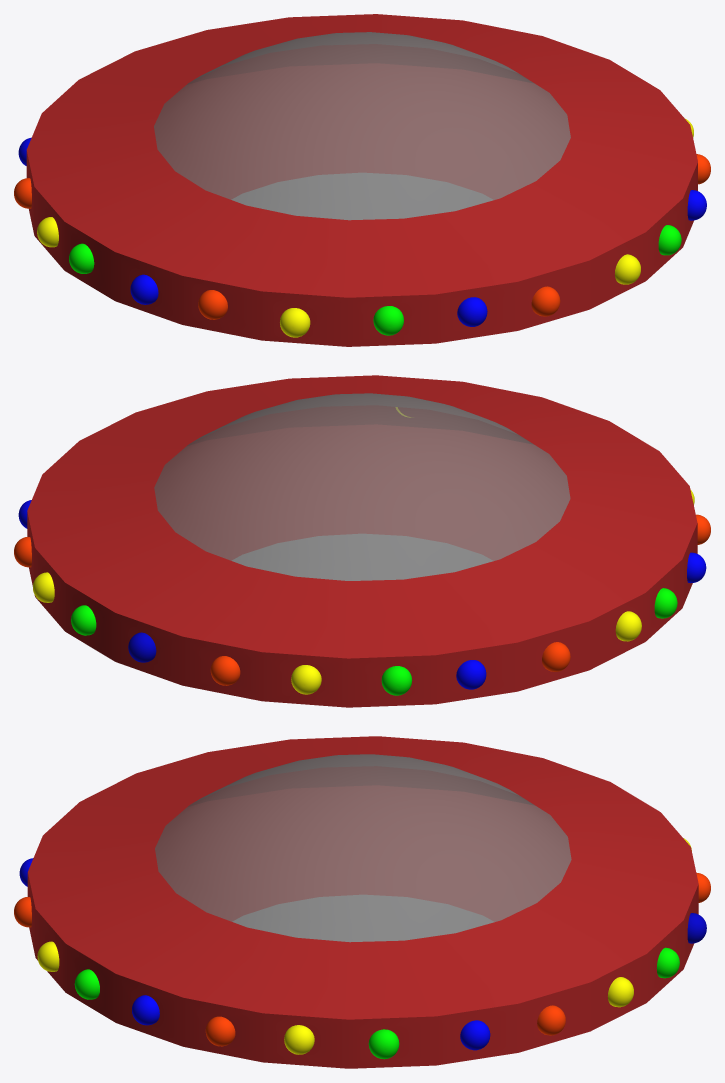
The model's file is UFO.dae.
3 renders of one model, top to bottom at view 1: azimuth 30°, elevation 25°; view 2: azimuth 150°, elevation 25°; view 3: azimuth 270°, elevation 25°, orthographic.
Visible parts, largest first — view 1: SketchUp (×13); view 2: SketchUp (×13); view 3: SketchUp (×13).
Boxes of the visible parts, <box> form: SketchUp (×13): <box>26,14,697,346</box>; SketchUp (×13): <box>27,375,697,707</box>; SketchUp (×13): <box>27,736,698,1068</box>.
Bounding box in the file's own units: 800 × 799 × 315.
